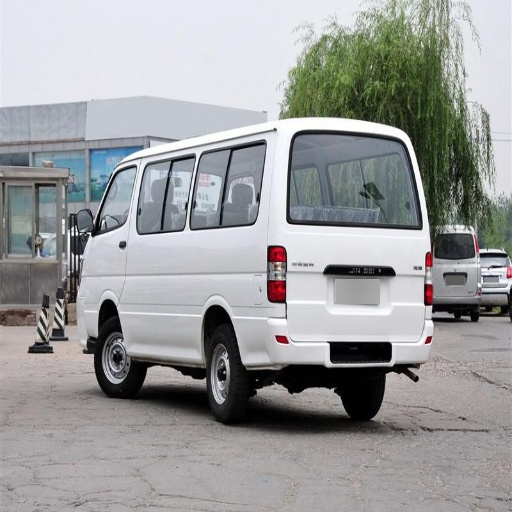back_bumper: (244, 331, 430, 369)
back_glass: (289, 133, 421, 228)
back_left_door: (141, 156, 197, 229)
back_right_door: (290, 131, 323, 191)
trunk: (126, 228, 429, 361)
